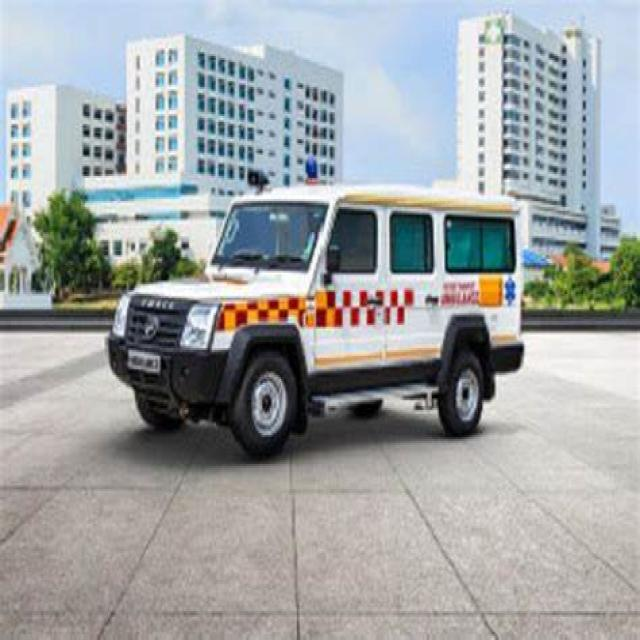ambulance: (299, 141, 323, 198)
